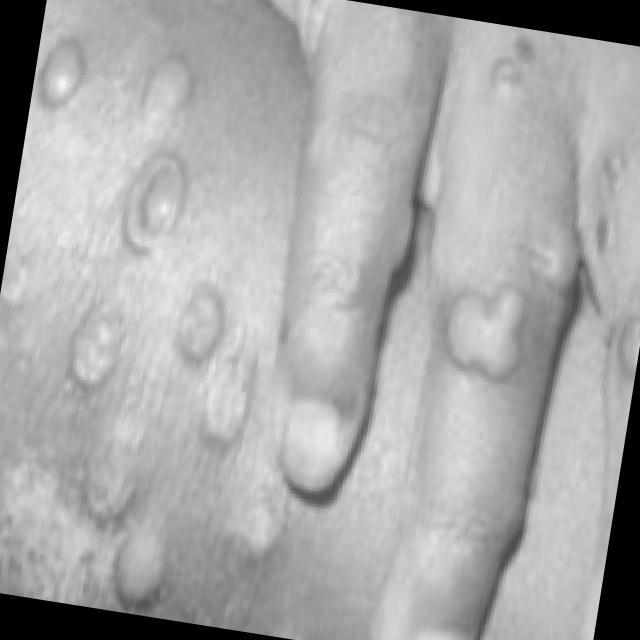Eczema: (5, 51, 296, 586), (445, 271, 543, 393)
